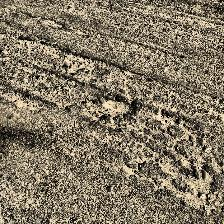pothole: (100, 96, 136, 114)
